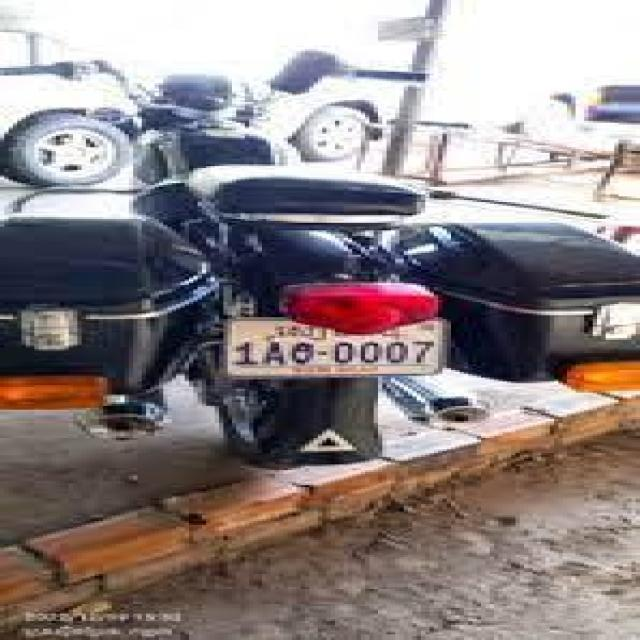Siem_Reap: (270, 323, 404, 340)
